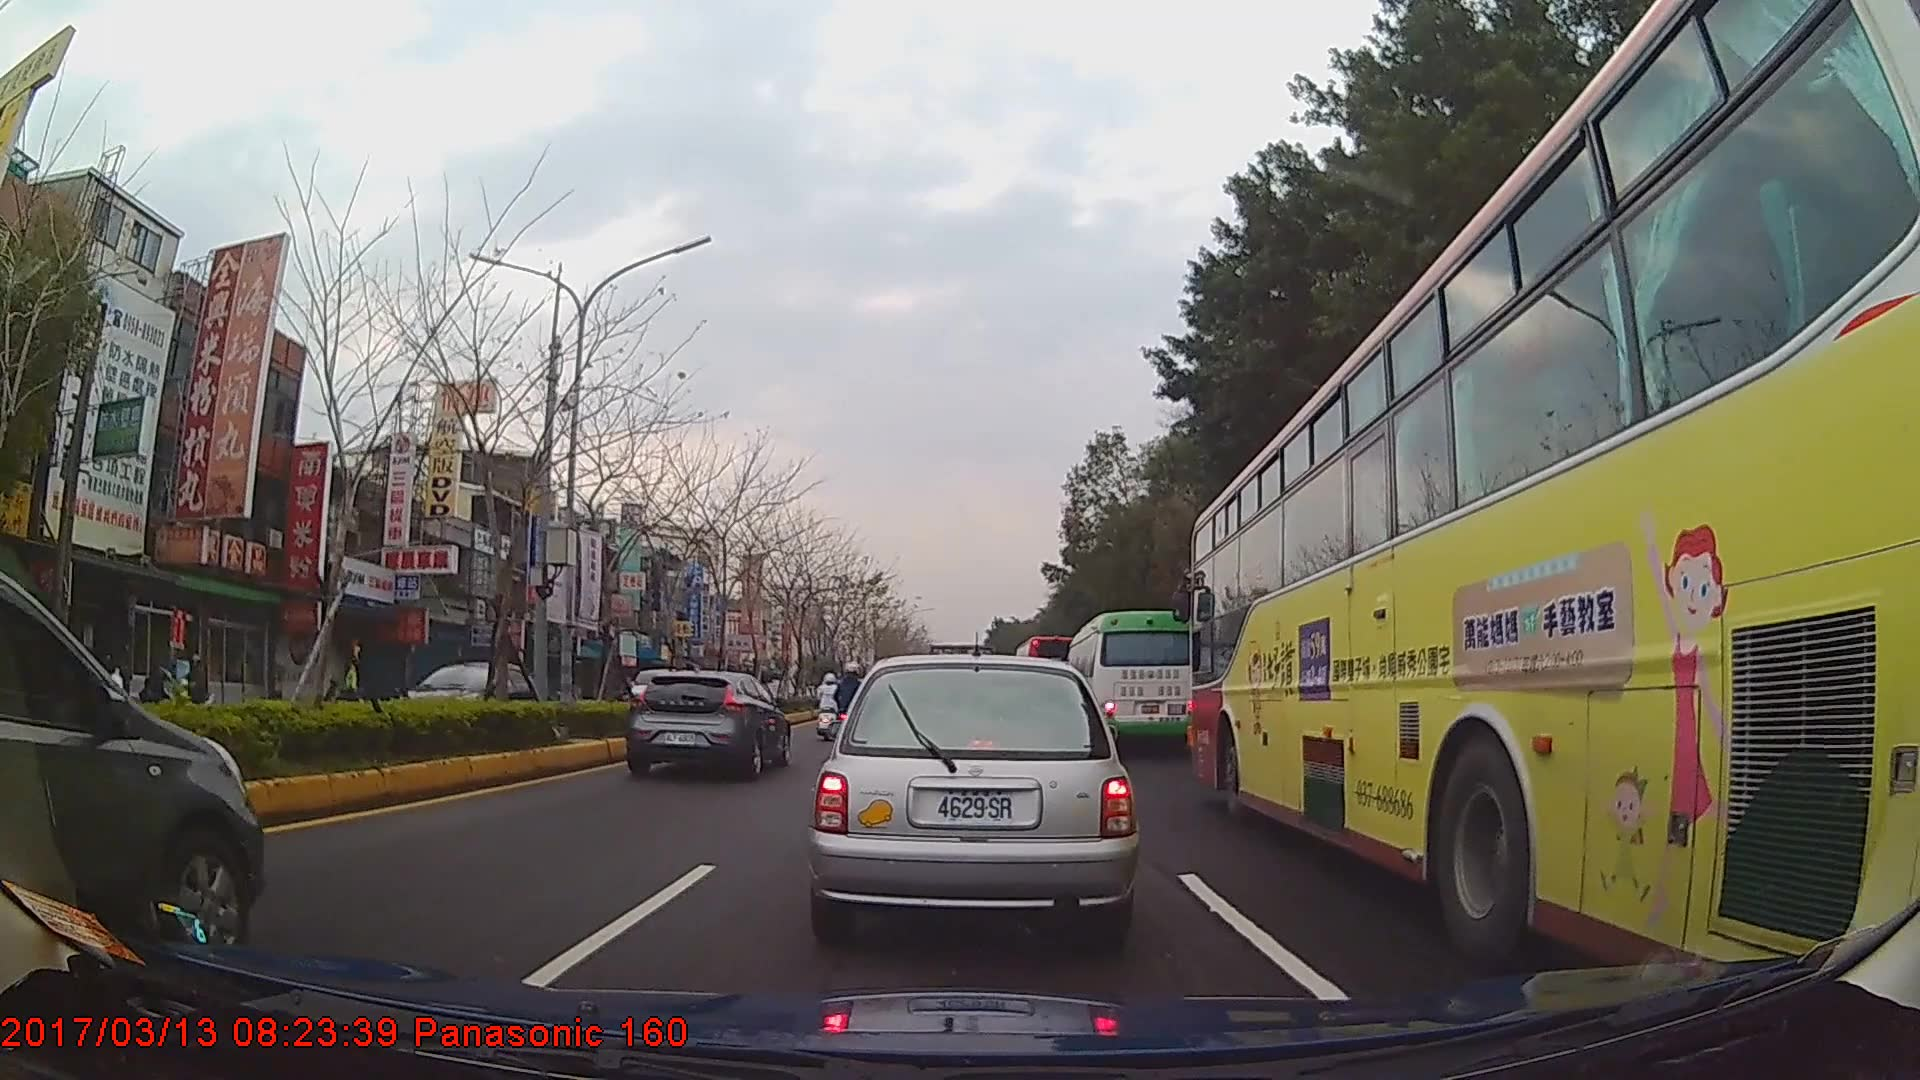rider: (834, 662, 869, 743), (815, 674, 846, 746), (176, 654, 210, 705)
vehicle: (1187, 0, 1920, 994), (0, 567, 262, 958), (812, 650, 1140, 953), (1063, 610, 1197, 753), (623, 668, 791, 780), (391, 653, 536, 732)
